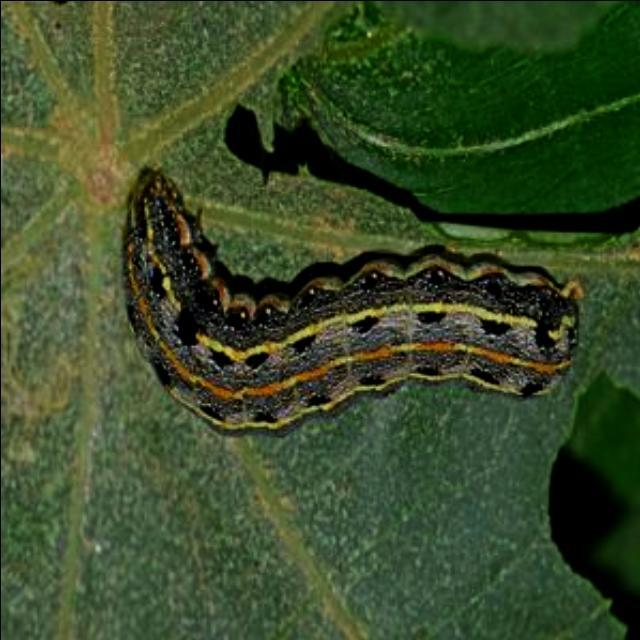Tobacco cutworm: (89, 128, 586, 442)
